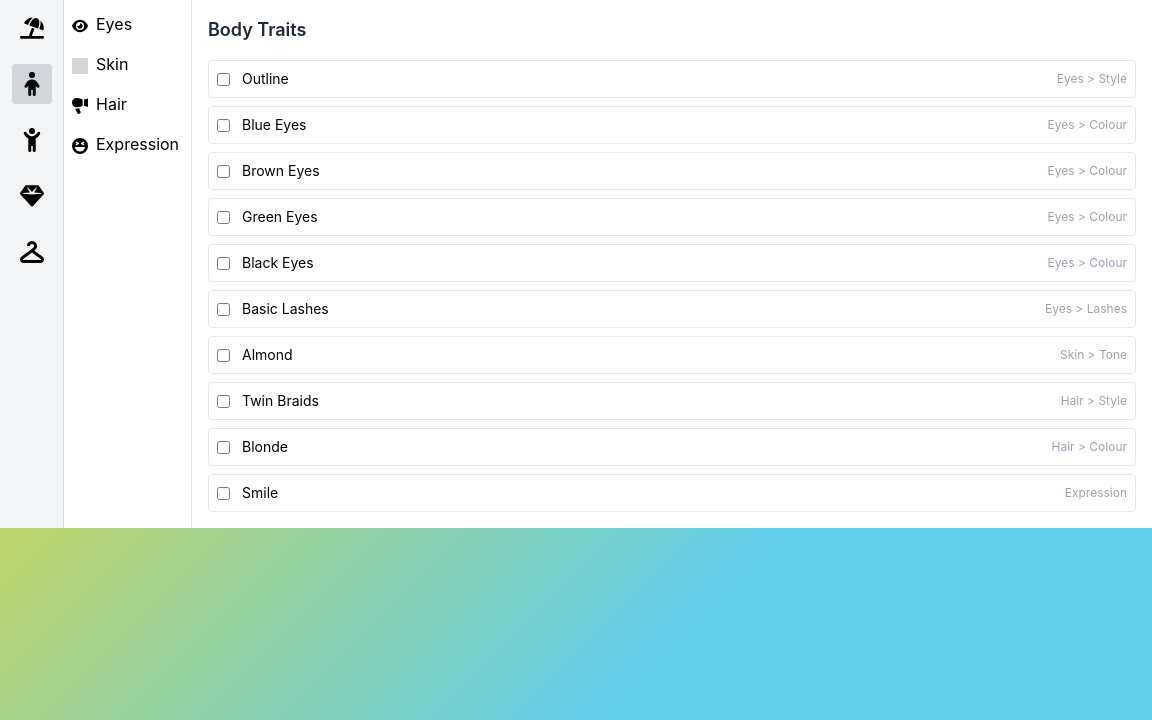
it: TraitsPanel › shows correct traits when Accessory category1 is selected
This screenshot has width=1152, height=720.
Click on Accessory button
Click the 4th button with alt text "Accessory": [32, 196] box [12,176,52,216]
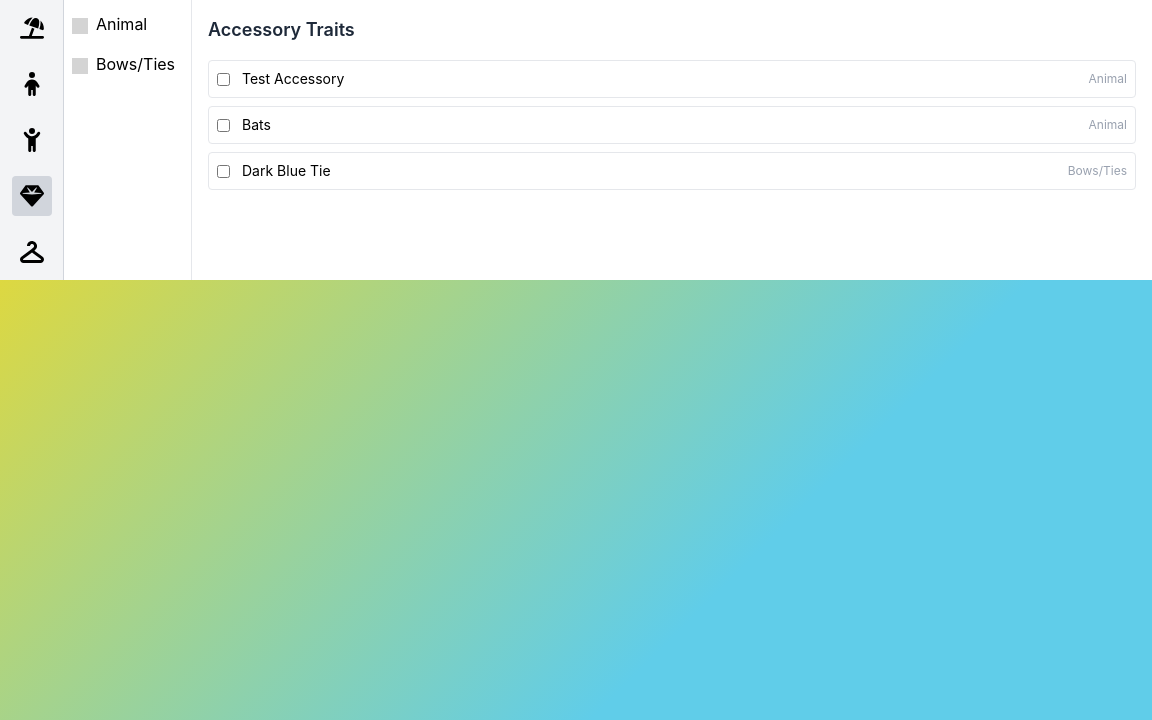
Now the text "Bats" is shown, box [242,116,271,133]
Now the text "Dark Blue Tie" is shown, box [242,162,331,179]
Now the text "Black Eyes" is gone
